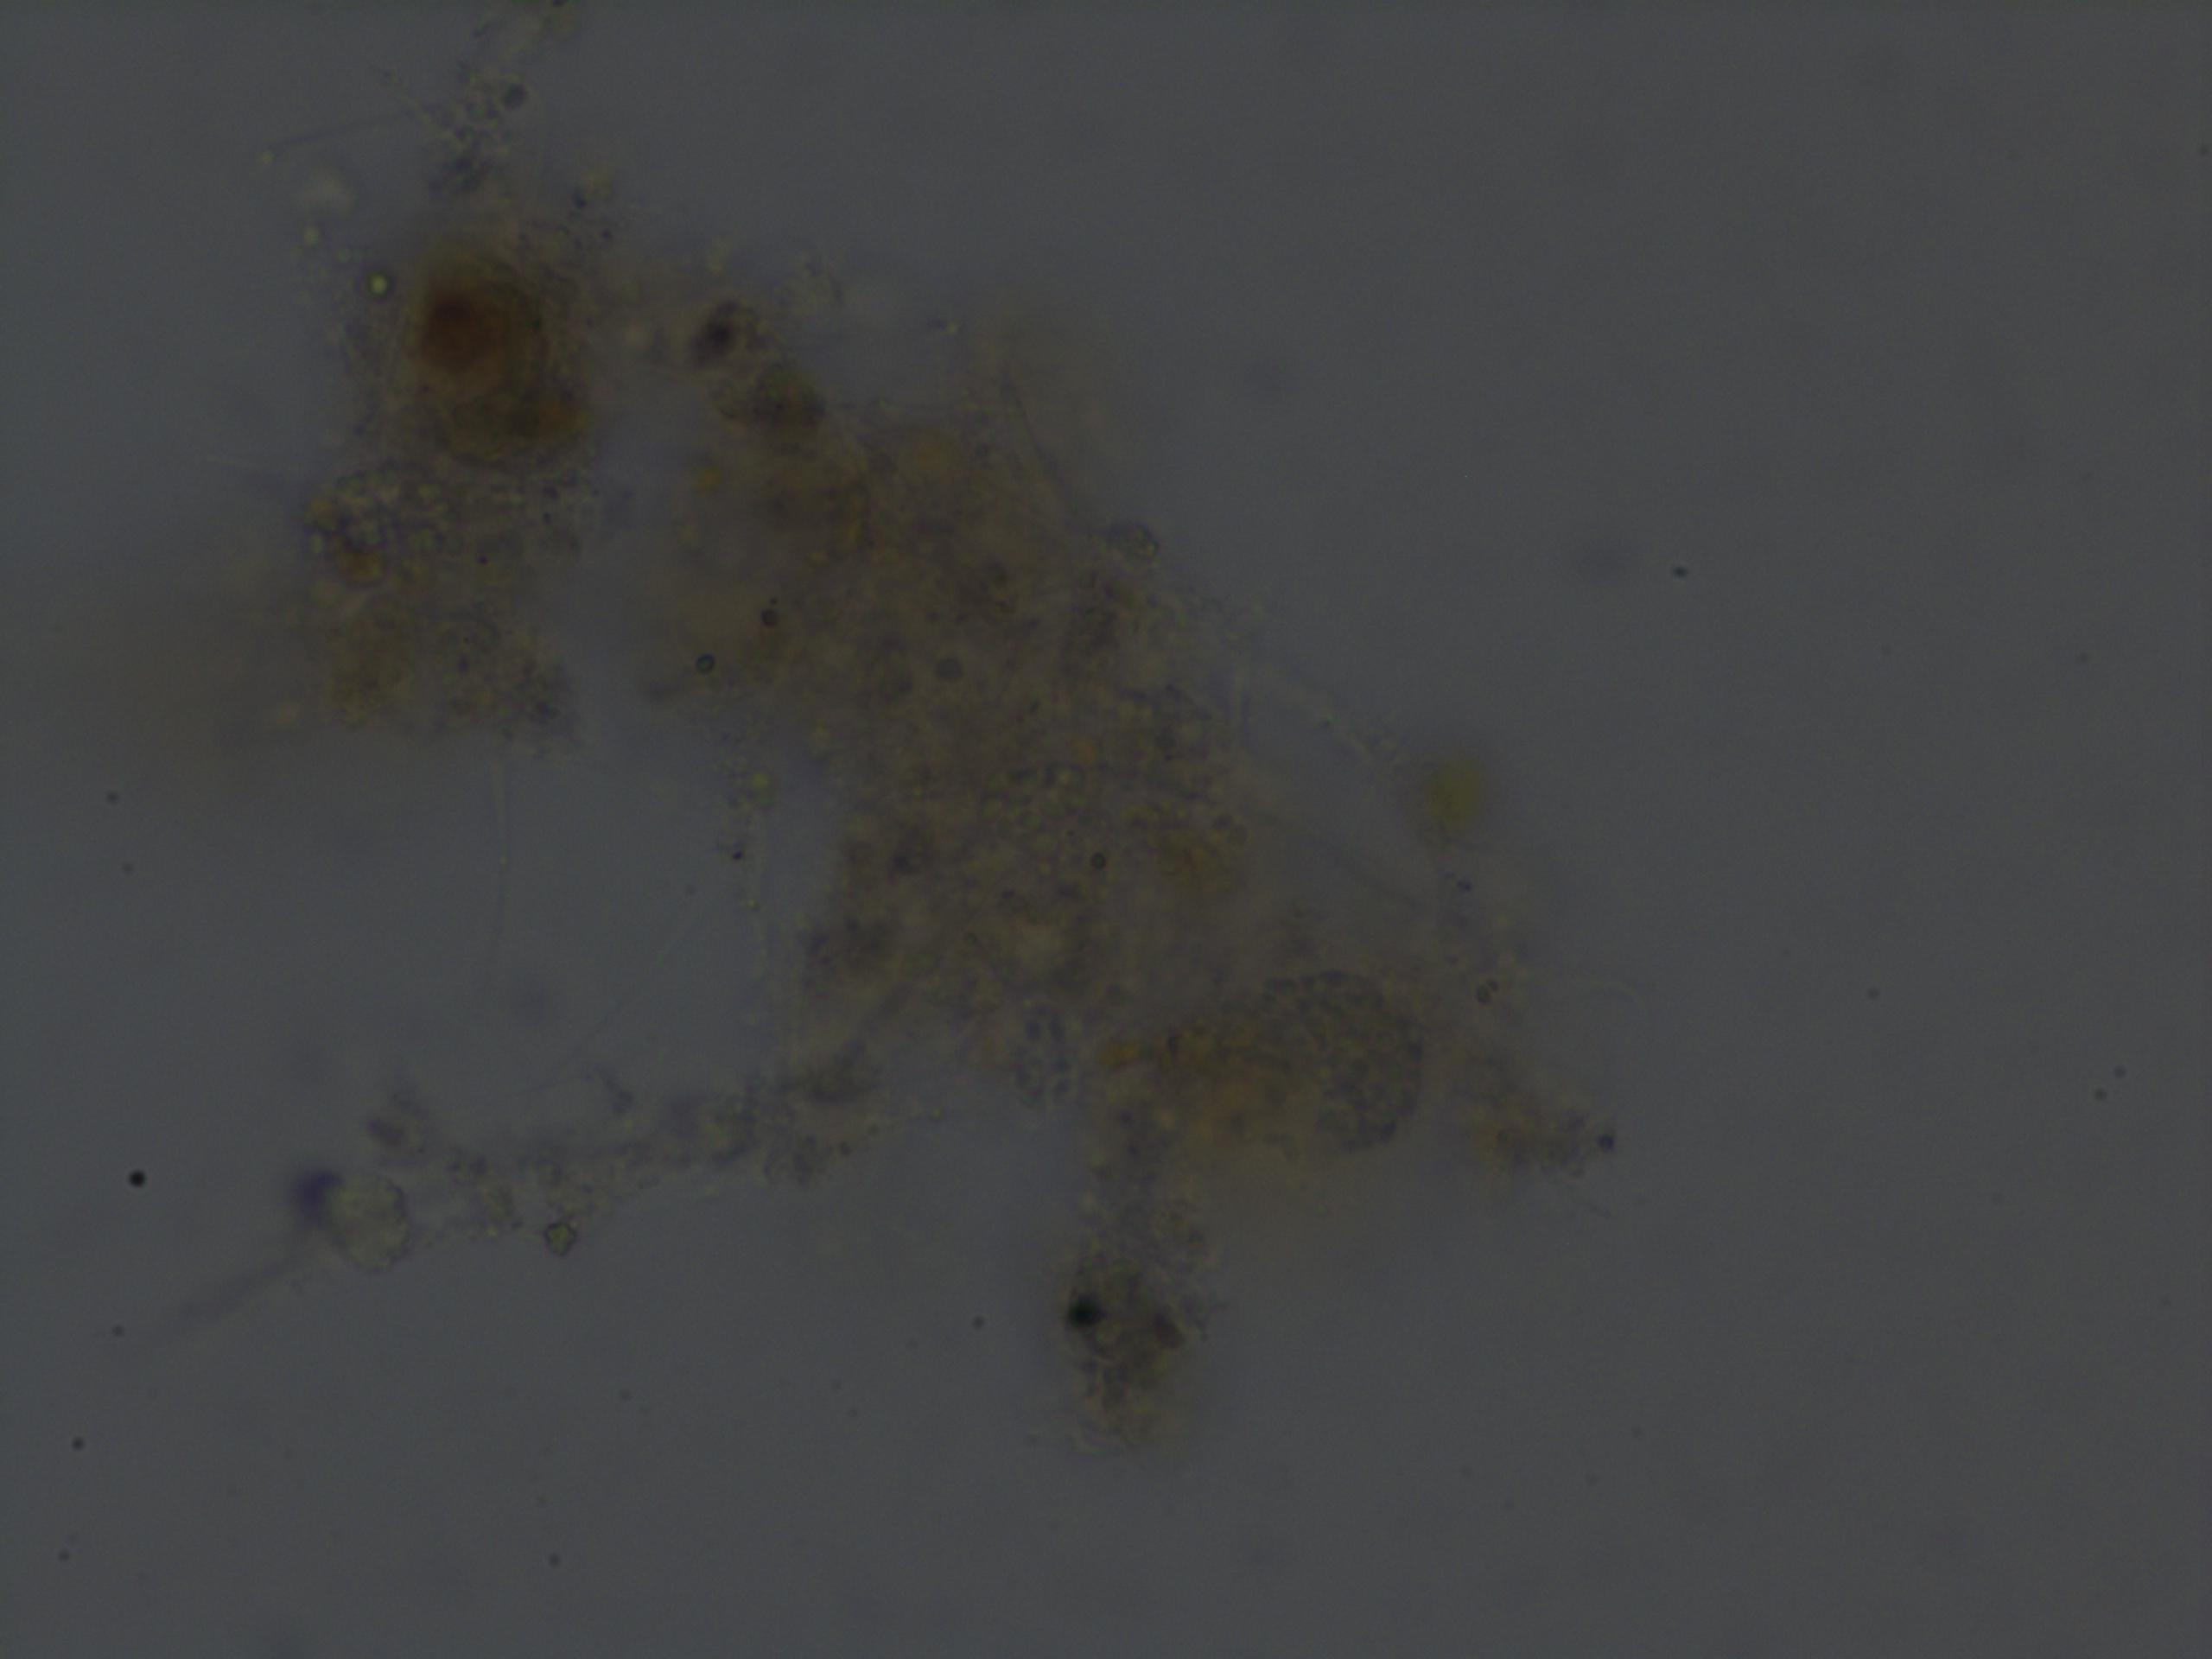filament: (145, 1060, 765, 1370)
open_floc: (258, 44, 1618, 1459)
